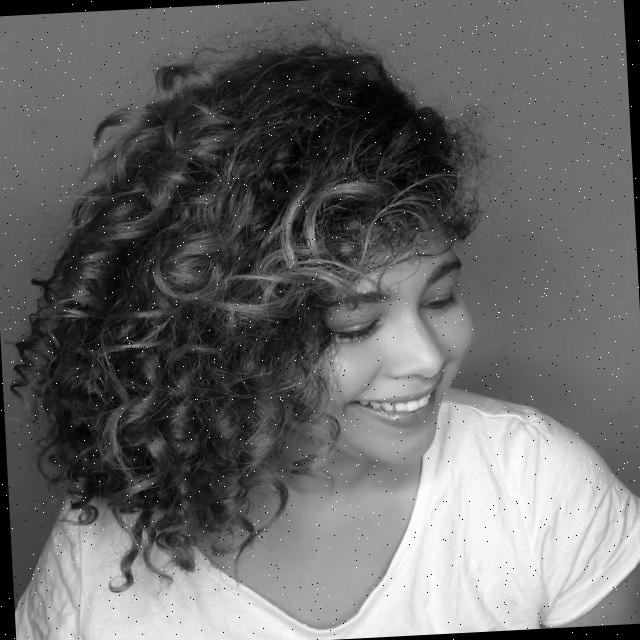Happiness: (296, 224, 484, 479)
